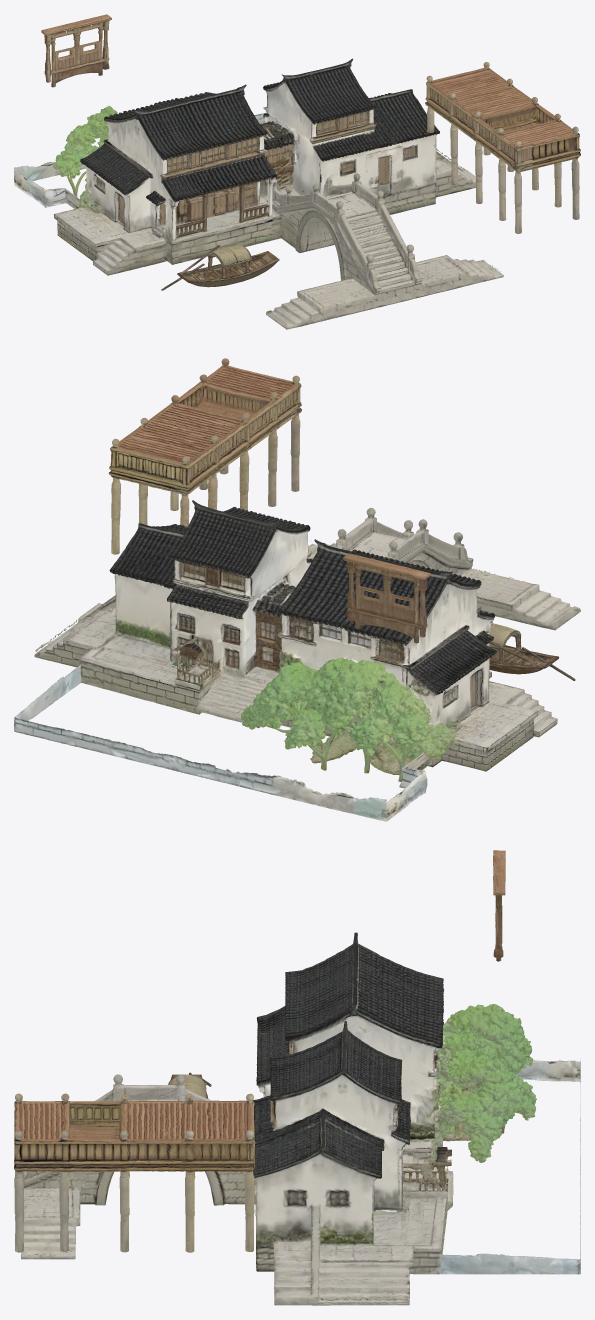
The model's file is bq_canal_house.hd.glb.
3 renders of one model, top to bottom at view 1: azimuth 30°, elevation 25°; view 2: azimuth 150°, elevation 25°; view 3: azimuth 270°, elevation 25°, orthographic. The views are drawn at different scales.
Size of the model in its own units: 1.88 by 0.8608 by 1.9.
Materials: 1 (1 with a texture image).
